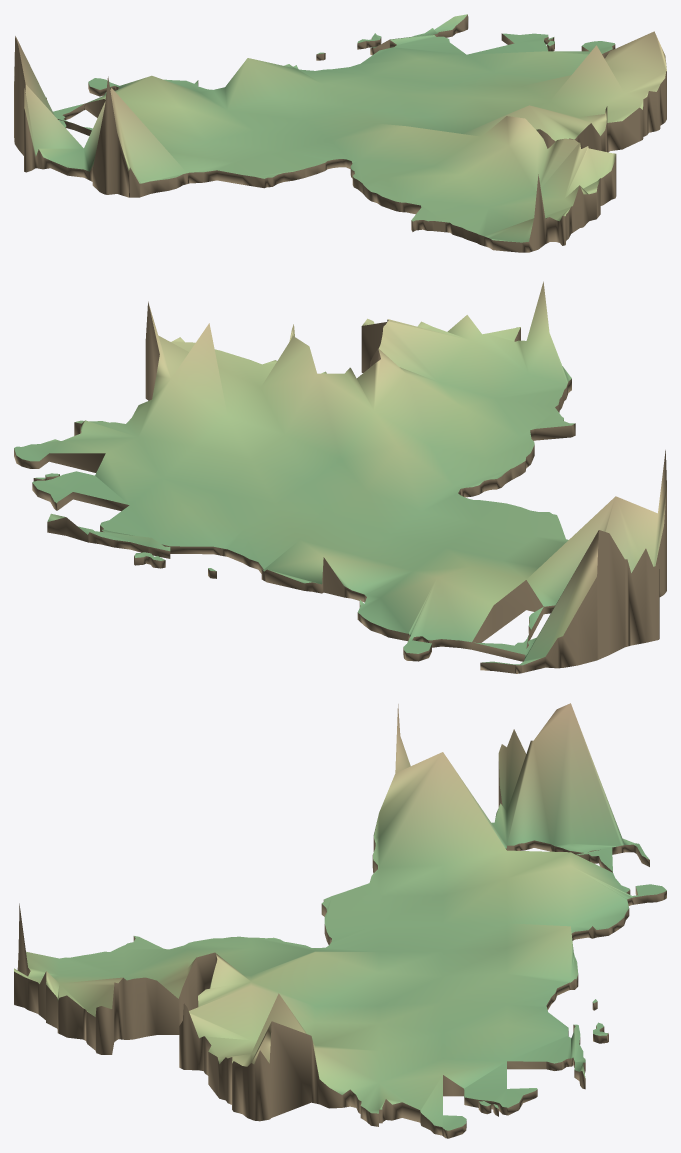
The model's file is VEN.glb.
The picture shows the model from 3 angles, top to bottom: view 1: azimuth 30°, elevation 25°; view 2: azimuth 150°, elevation 25°; view 3: azimuth 270°, elevation 25°; orthographic projection. The views are drawn at different scales.
Parts seen in each view (by area): view 1: VEN; view 2: VEN; view 3: VEN.
Boxes of the visible parts, x1,y1,x2,y2 form: VEN: [14, 14, 666, 252]; VEN: [14, 281, 666, 673]; VEN: [14, 703, 666, 1138].
Size of the model in its own units: 1.68 by 0.338 by 1.45.
